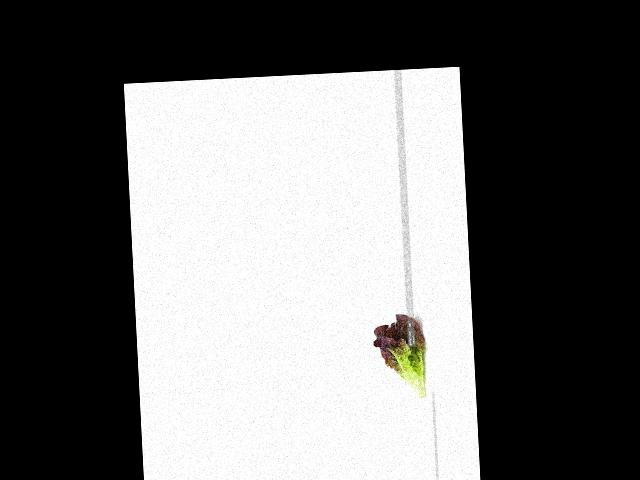lettuce: (371, 311, 432, 403)
